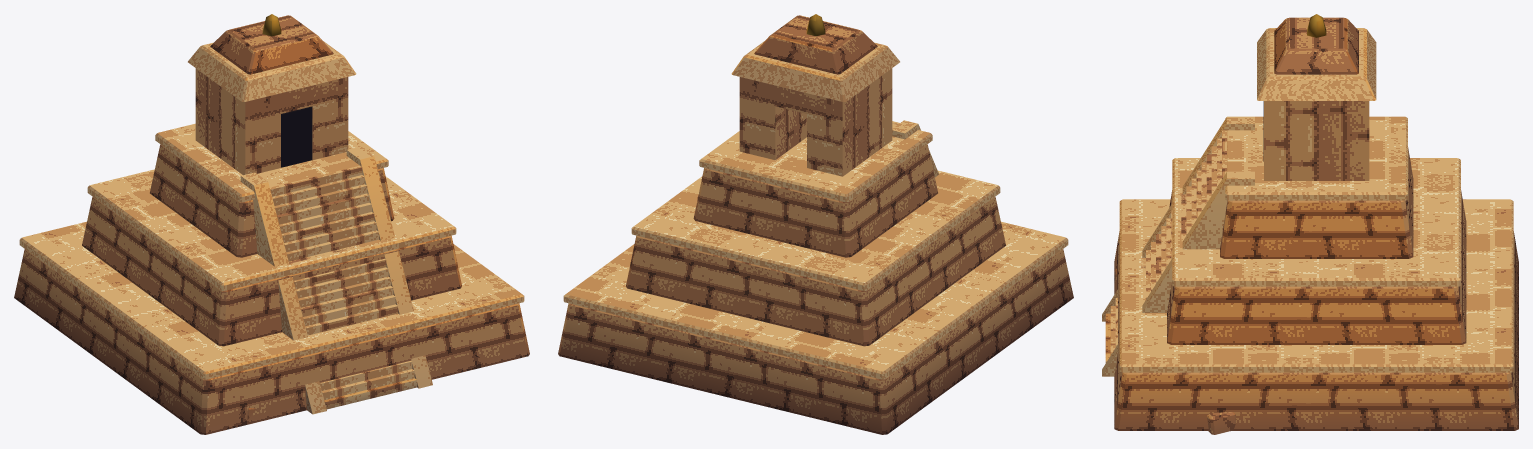
File: ruin.pyramid.glb
The picture shows the model from 3 angles, left to right: view 1: azimuth 30°, elevation 25°; view 2: azimuth 150°, elevation 25°; view 3: azimuth 270°, elevation 25°; orthographic projection. The views are drawn at different scales.
Visible parts, largest first — view 1: kit_tiers, kit_lips, kit_stairs, kit_shrine, kit_roof, kit_balustrades, kit_shrine_door; view 2: kit_tiers, kit_lips, kit_shrine, kit_roof; view 3: kit_tiers, kit_lips, kit_roof, kit_shrine, kit_balustrades, kit_stairs, kit_rubble.
Part boxes in pixels (bbox=[...]): kit_tiers: bbox=[14, 144, 529, 434]; kit_lips: bbox=[19, 123, 524, 379]; kit_stairs: bbox=[270, 165, 416, 409]; kit_shrine: bbox=[195, 68, 348, 175]; kit_roof: bbox=[188, 14, 356, 101]; kit_balustrades: bbox=[240, 146, 432, 414]; kit_shrine_door: bbox=[281, 106, 312, 167]; kit_tiers: bbox=[558, 144, 1073, 434]; kit_lips: bbox=[563, 123, 1068, 379]; kit_shrine: bbox=[739, 68, 892, 176]; kit_roof: bbox=[731, 14, 899, 101]; kit_tiers: bbox=[1114, 147, 1518, 430]; kit_lips: bbox=[1119, 116, 1513, 372]; kit_roof: bbox=[1257, 14, 1376, 100]; kit_shrine: bbox=[1264, 101, 1369, 180]; kit_balustrades: bbox=[1102, 116, 1254, 376]; kit_stairs: bbox=[1105, 130, 1226, 362]; kit_rubble: bbox=[1115, 269, 1235, 434].
Bounding box in the file's own units: 11.73 × 10.48 × 11.85.
8 materials, 7 textured.
